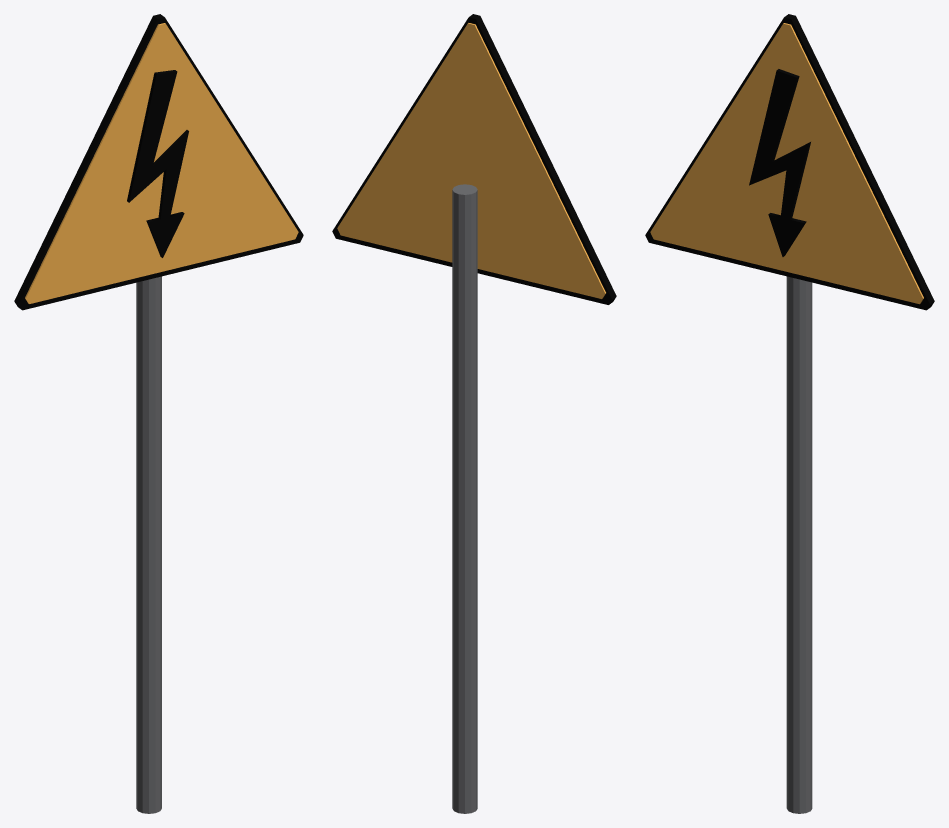
The model's file is Electrical Sign.fbx.
The picture shows the model from 3 angles, left to right: view 1: azimuth 30°, elevation 25°; view 2: azimuth 150°, elevation 25°; view 3: azimuth 330°, elevation 25°; orthographic projection.
Visible parts, largest first — view 1: Shock_Sign; view 2: Shock_Sign; view 3: Shock_Sign.
Boxes of the visible parts, x1,y1,x2,y2 form: Shock_Sign: [14, 14, 303, 813]; Shock_Sign: [332, 14, 616, 813]; Shock_Sign: [645, 14, 934, 813].
Size of the model in its own units: 100 by 269 by 13.28.
